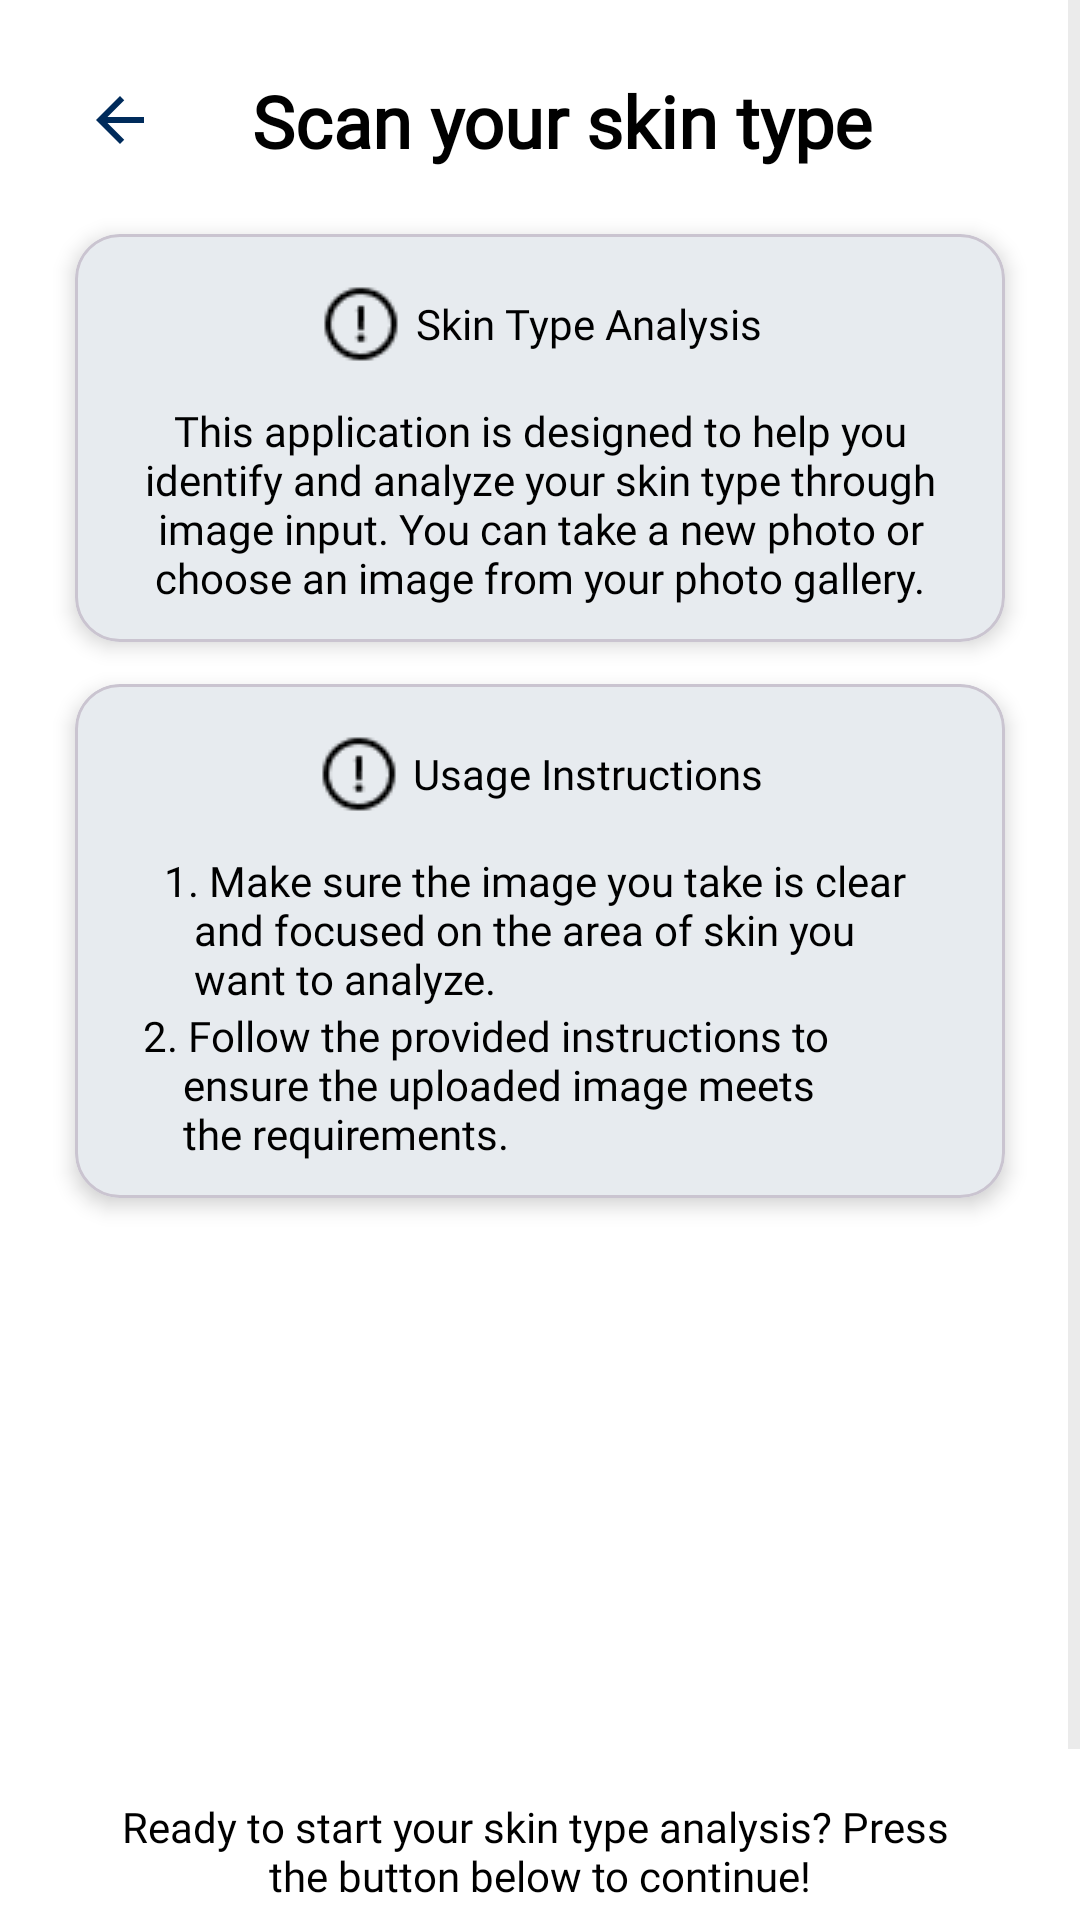

Screen size 1080 x 1920. Icon name, then its center in pixels as [x,y]:
arrow back: [120,120]
